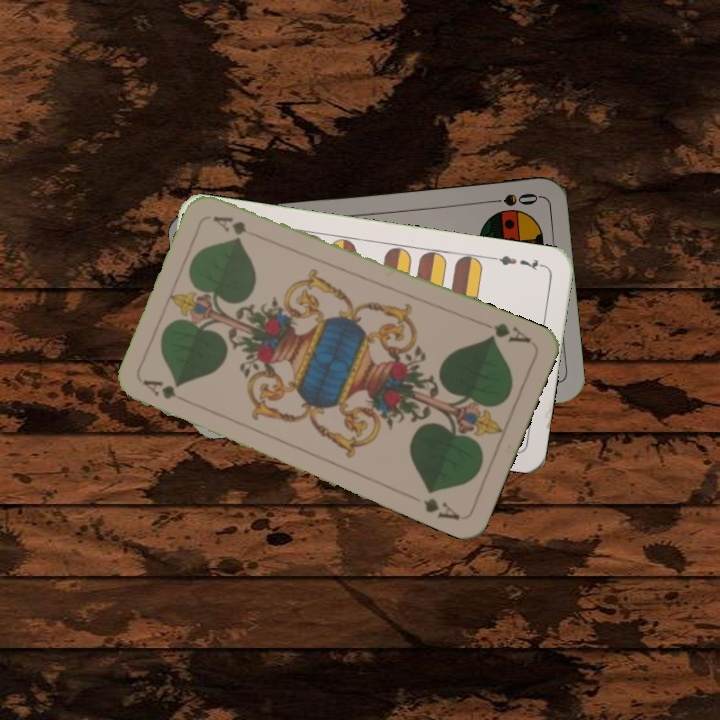E7: (489, 251, 548, 273)
GA: (139, 375, 196, 408), (478, 318, 533, 346)
SO: (481, 189, 541, 209)
